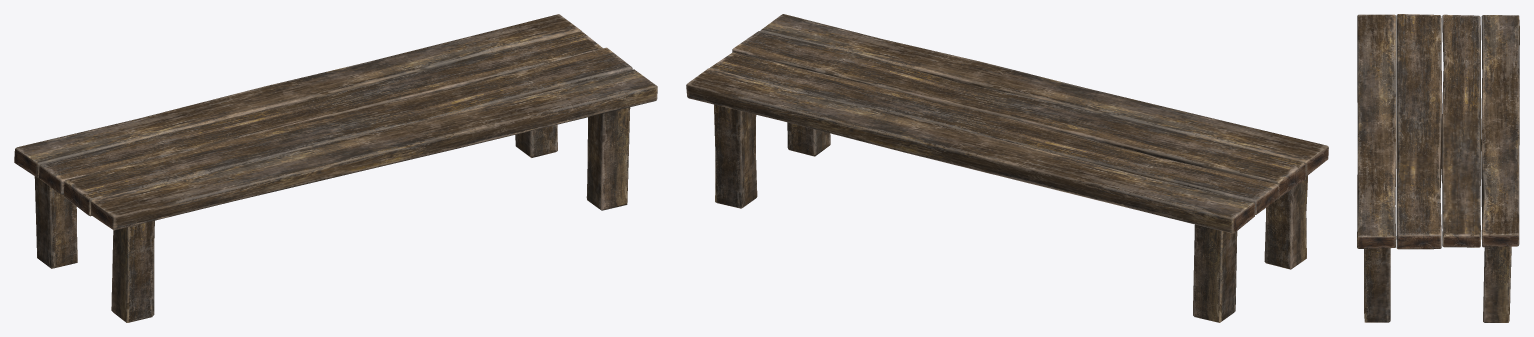
Rendered from SM_tableLong.fbx.
3 renders of one model, left to right at view 1: azimuth 30°, elevation 25°; view 2: azimuth 150°, elevation 25°; view 3: azimuth 270°, elevation 25°, orthographic. The views are drawn at different scales.
Parts seen in each view (by area): view 1: SM_tableLong_LOD0; view 2: SM_tableLong_LOD0; view 3: SM_tableLong_LOD0.
Boxes of the visible parts, x1,y1,x2,y2 form: SM_tableLong_LOD0: (14, 14, 657, 322); SM_tableLong_LOD0: (686, 14, 1328, 322); SM_tableLong_LOD0: (1357, 14, 1519, 322).
Bounding box in the file's own units: 466 × 144 × 96.4.
